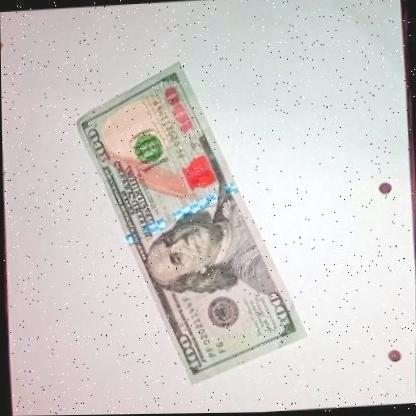one_hundred-front: (66, 50, 317, 392)
